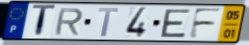4: (123, 6, 149, 40)
E: (160, 8, 192, 39)
F: (187, 7, 224, 40)
R: (53, 7, 85, 36)
T: (31, 4, 58, 40), (97, 7, 121, 38)
